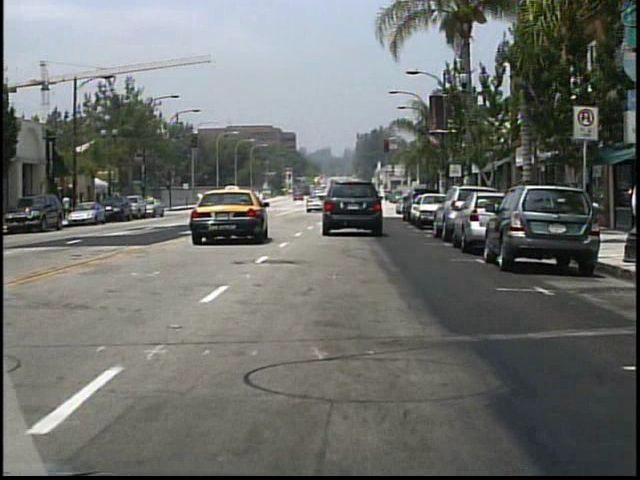person: (64, 193, 74, 221), (323, 191, 335, 213), (259, 190, 271, 211)
